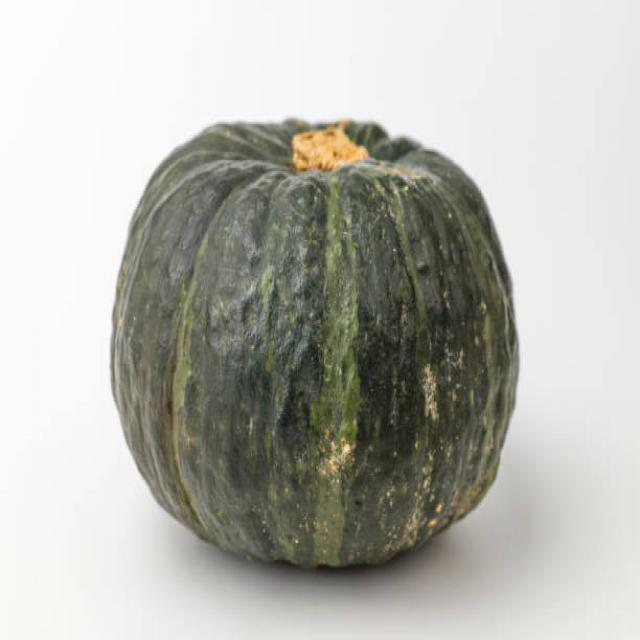Pumpkin: (107, 107, 527, 579)
